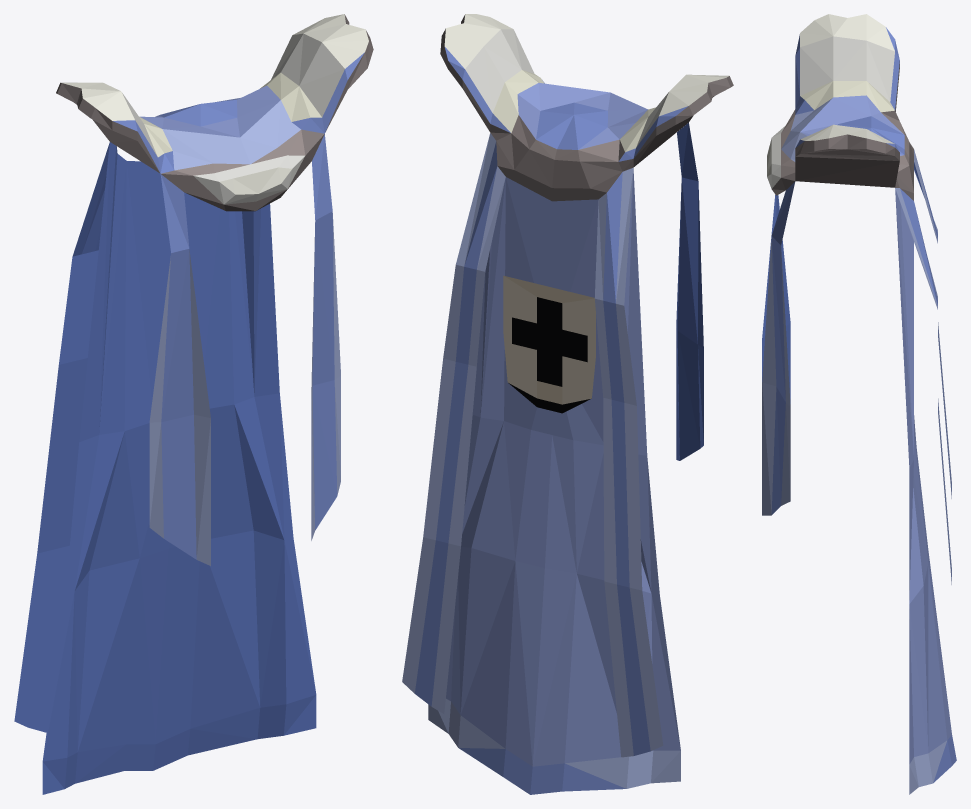
The model's file is defence.gltf.
3 renders of one model, left to right at view 1: azimuth 30°, elevation 25°; view 2: azimuth 150°, elevation 25°; view 3: azimuth 270°, elevation 25°, orthographic. The views are drawn at different scales.
Bounding box in the file's own units: 64 × 159 × 41.
Materials: 1 (1 with a texture image).
